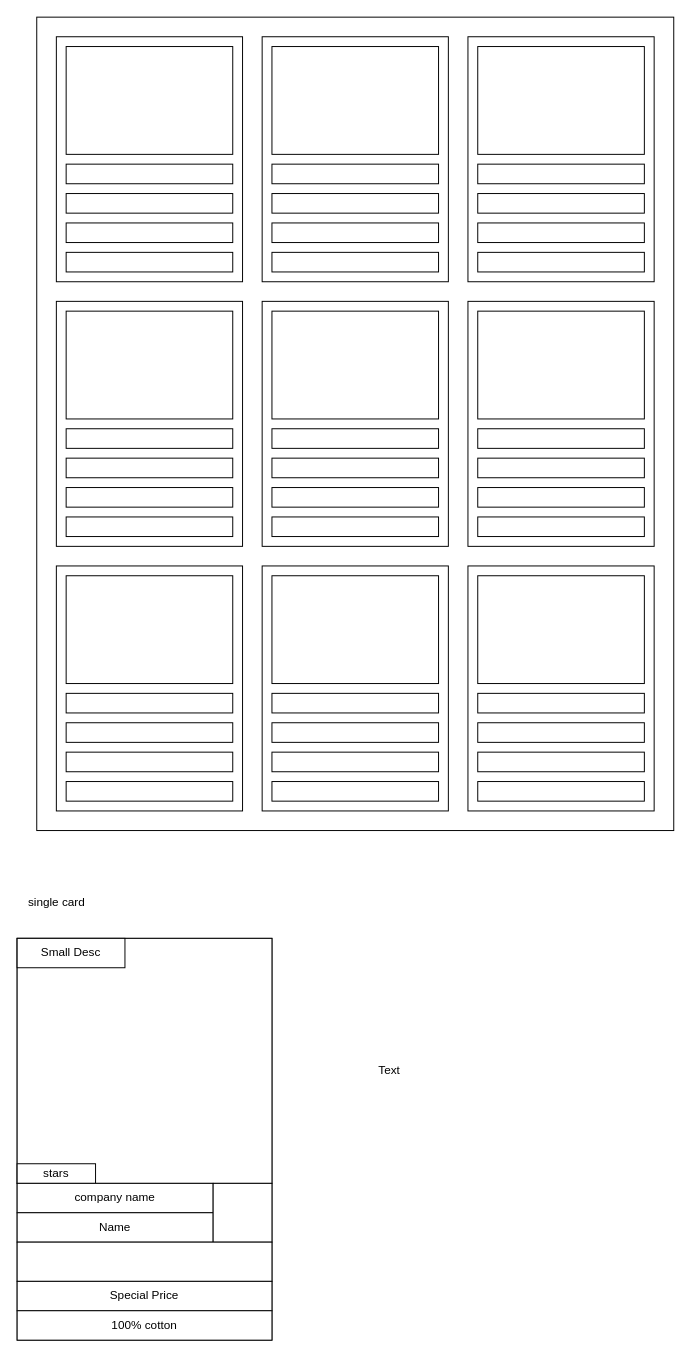
The diagram is 691 pixels wide and 1357 high, and some of its shapes have lost their labels. Each missing label, with the box of its shape:
heart: (212, 1182, 272, 1242)
Image: (16, 937, 272, 1183)
Price: (16, 1241, 272, 1281)
